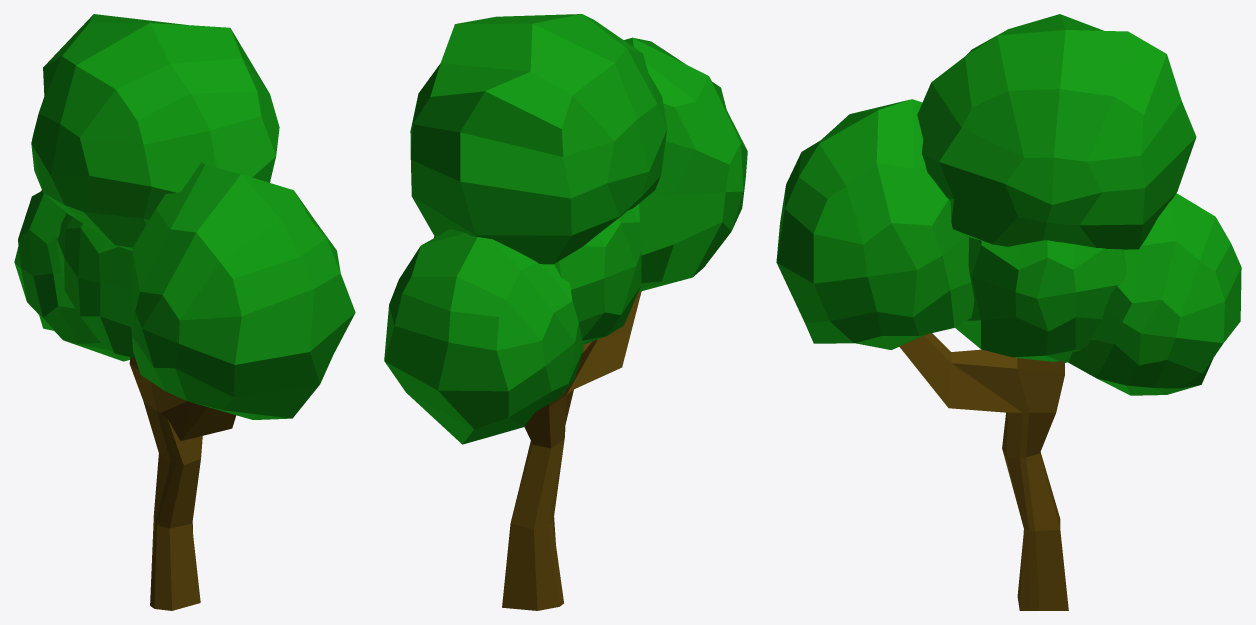
3 renders of one model, left to right at view 1: azimuth 30°, elevation 25°; view 2: azimuth 150°, elevation 25°; view 3: azimuth 270°, elevation 25°, orthographic. The views are drawn at different scales.
Parts seen in each view (by area): view 1: Cube.004, Cube.003, Cube, Cube.001, Cube.002; view 2: Cube.003, Cube.002, Cube.004, Cube, Cube.001; view 3: Cube.003, Cube.004, Cube.002, Cube, Cube.001.
Part boxes in pixels (x1,y1,x2,y2): Cube.004: (131, 162, 355, 419); Cube.003: (31, 14, 279, 250); Cube: (129, 357, 236, 610); Cube.001: (57, 213, 134, 357); Cube.002: (14, 190, 130, 361); Cube.003: (410, 14, 667, 264); Cube.002: (384, 229, 583, 444); Cube.004: (624, 37, 747, 291); Cube: (502, 291, 641, 610); Cube.001: (434, 204, 641, 344); Cube.003: (917, 14, 1196, 249); Cube.004: (776, 99, 974, 349); Cube.002: (1063, 193, 1241, 395); Cube: (899, 333, 1068, 610); Cube.001: (955, 237, 1126, 363).
Bounding box in the file's own units: 33.8 × 85.32 × 63.36.
